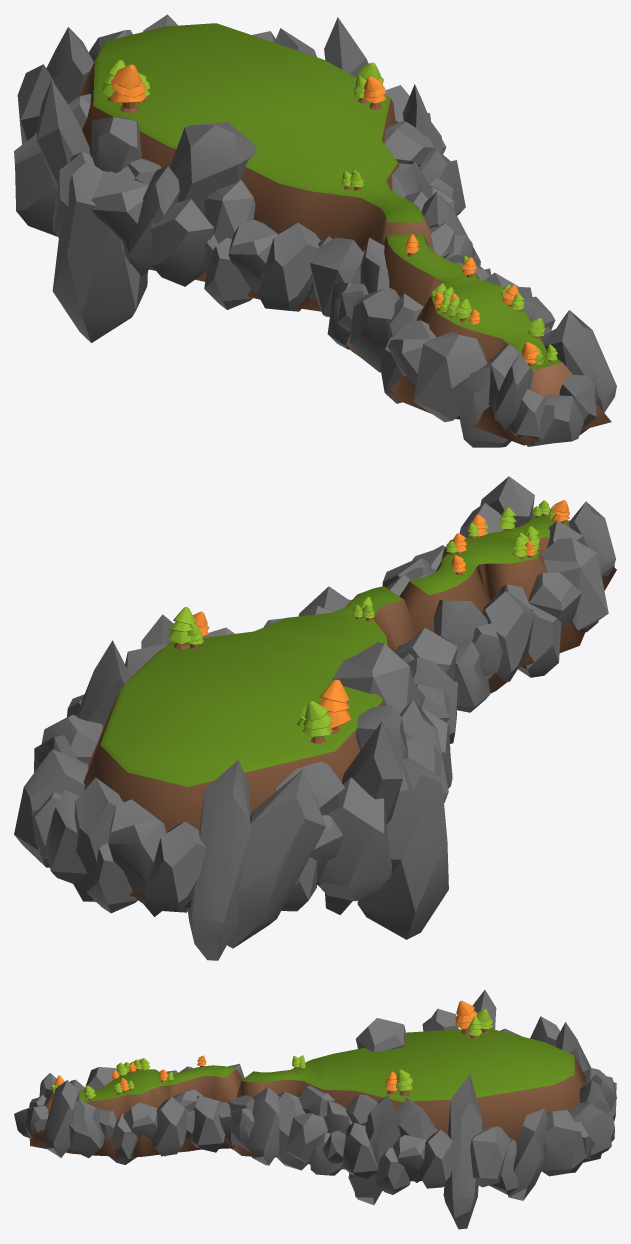
Rendered from land.glb.
The picture shows the model from 3 angles, top to bottom: view 1: azimuth 30°, elevation 25°; view 2: azimuth 150°, elevation 25°; view 3: azimuth 270°, elevation 25°; orthographic projection. The views are drawn at different scales.
Visible parts, largest first — view 1: Icosphere.075, Plane.002, Plane, Cylinder.015; view 2: Icosphere.075, Plane.002, Plane, Cylinder.015; view 3: Icosphere.075, Plane.002, Plane, Cylinder.015.
Part boxes in pixels (x1,y1,x2,y2): Icosphere.075: [14, 14, 616, 447]; Plane.002: [93, 23, 562, 370]; Plane: [52, 49, 611, 445]; Cylinder.015: [102, 60, 557, 366]; Icosphere.075: [14, 476, 615, 960]; Plane.002: [100, 515, 568, 786]; Plane: [83, 523, 616, 907]; Cylinder.015: [168, 500, 569, 743]; Icosphere.075: [14, 990, 616, 1229]; Plane.002: [78, 1028, 574, 1101]; Plane: [29, 1056, 586, 1181]; Cylinder.015: [51, 1000, 493, 1100].
Size of the model in its own units: 26.96 by 17.41 by 59.03.
1 material, 1 textured.
